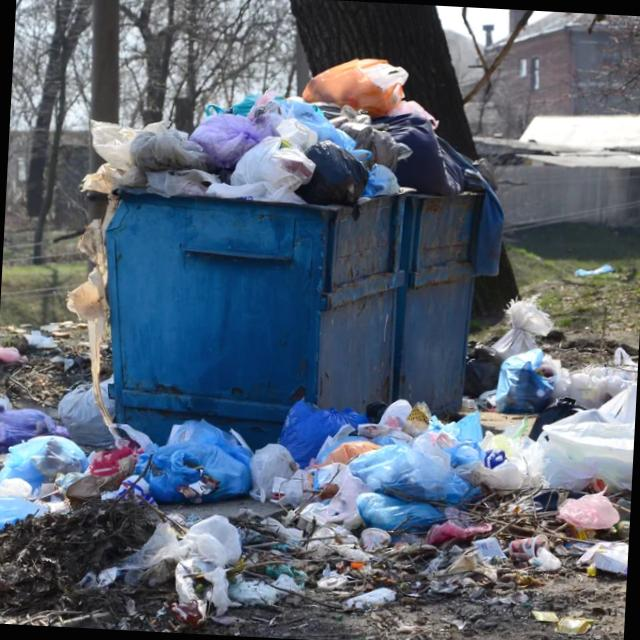garbage: (32, 384, 609, 640)
